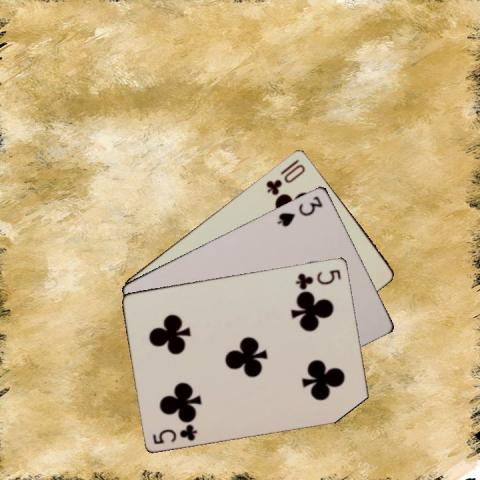10c: (263, 155, 307, 197)
3s: (275, 193, 324, 228)
5c: (150, 421, 199, 445), (292, 266, 343, 289)
